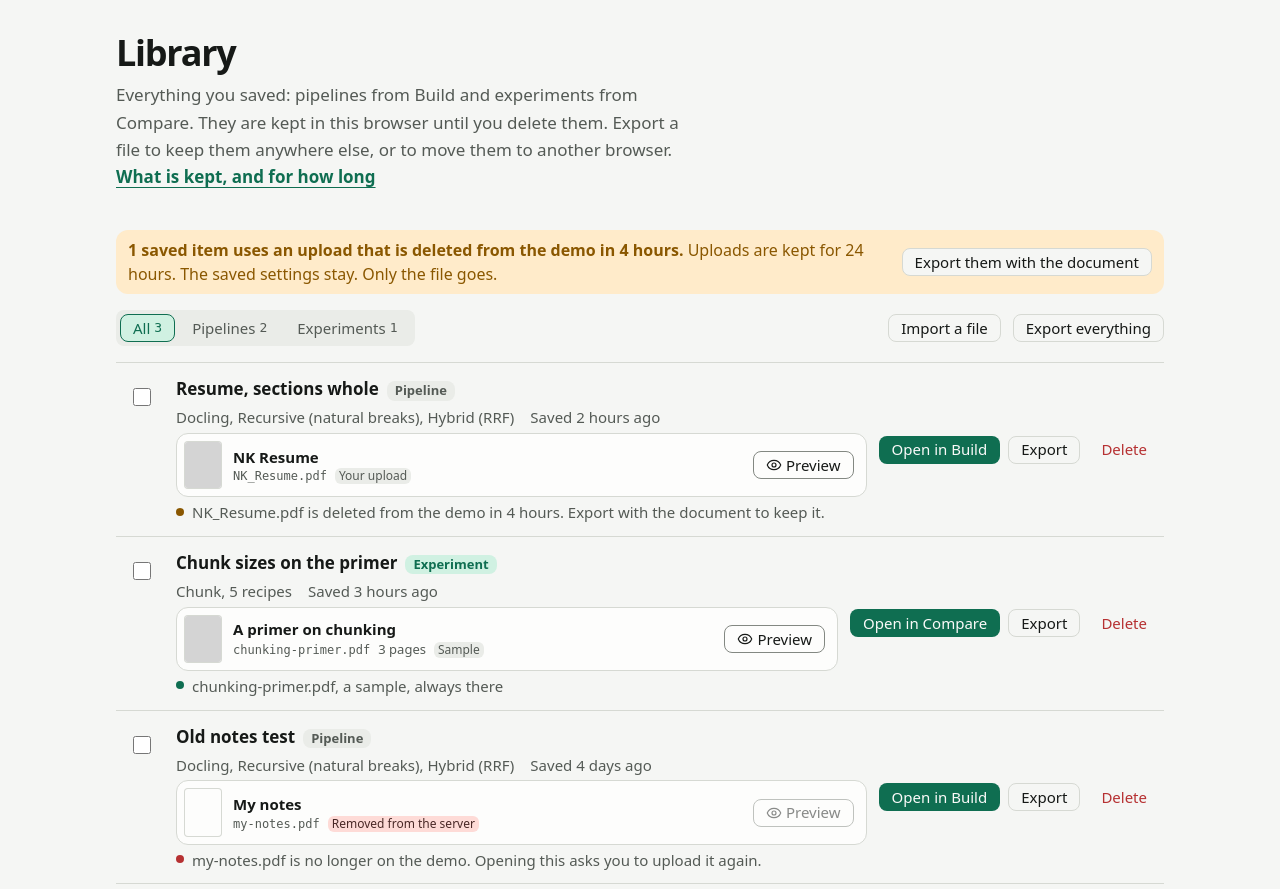
Test: Library › warns in amber when a saved item's upload has under 6 hours left, and offers to export them with the document
Check: the text "deleted from the demo in" is shown, box [192, 502, 825, 522]
Check: the message with test id "upload-warning" shows "1 saved item uses an upload that is deleted from the demo in 4 hours.", box [116, 230, 1164, 294]
Click the button "Export them with the document" at x=1027, y=262, box [902, 248, 1152, 276]
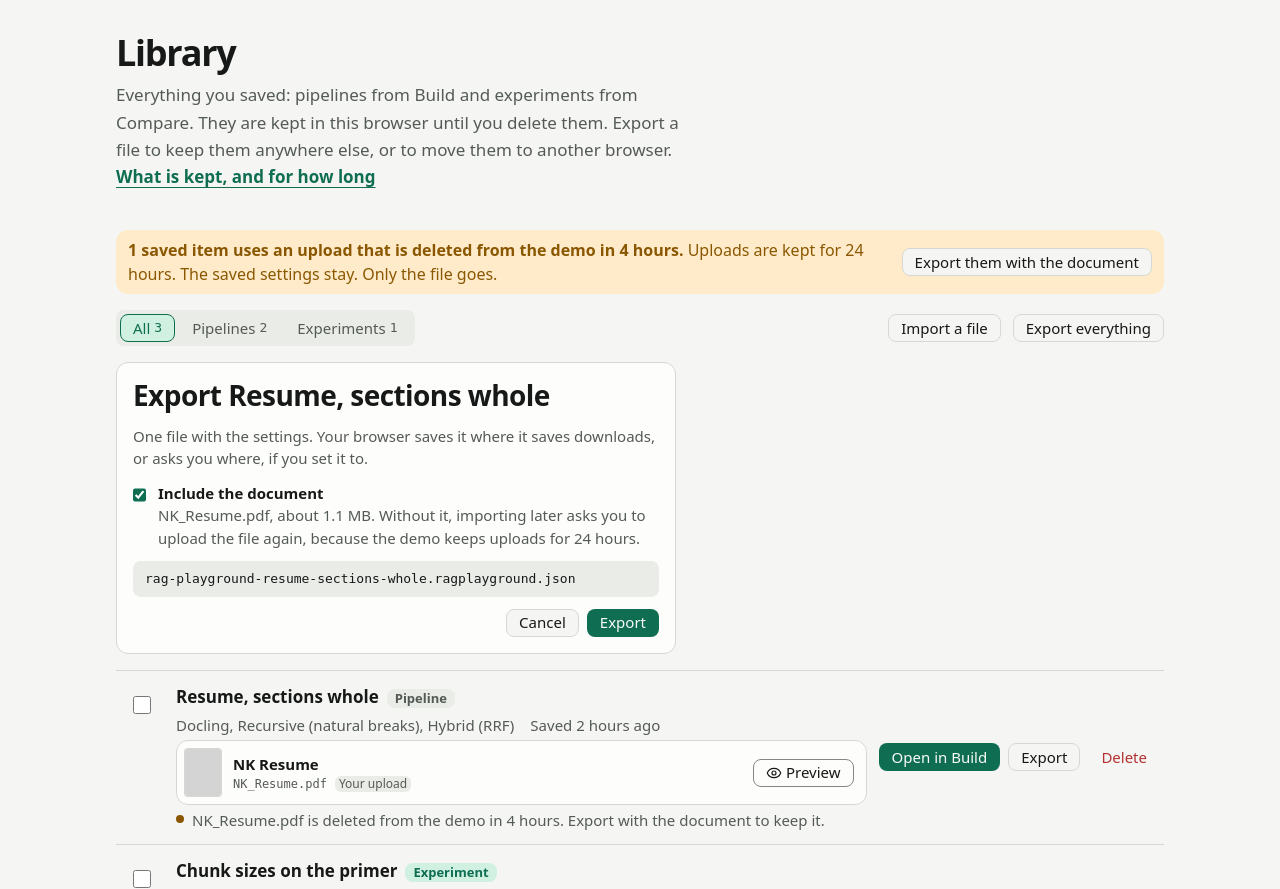
Check: the checkbox labelled "Include the document" is checked, box [133, 486, 146, 504]
Check: the text "rag-playground-resume-sections-whole.ragplayground.json" is shown, box [133, 561, 659, 597]
